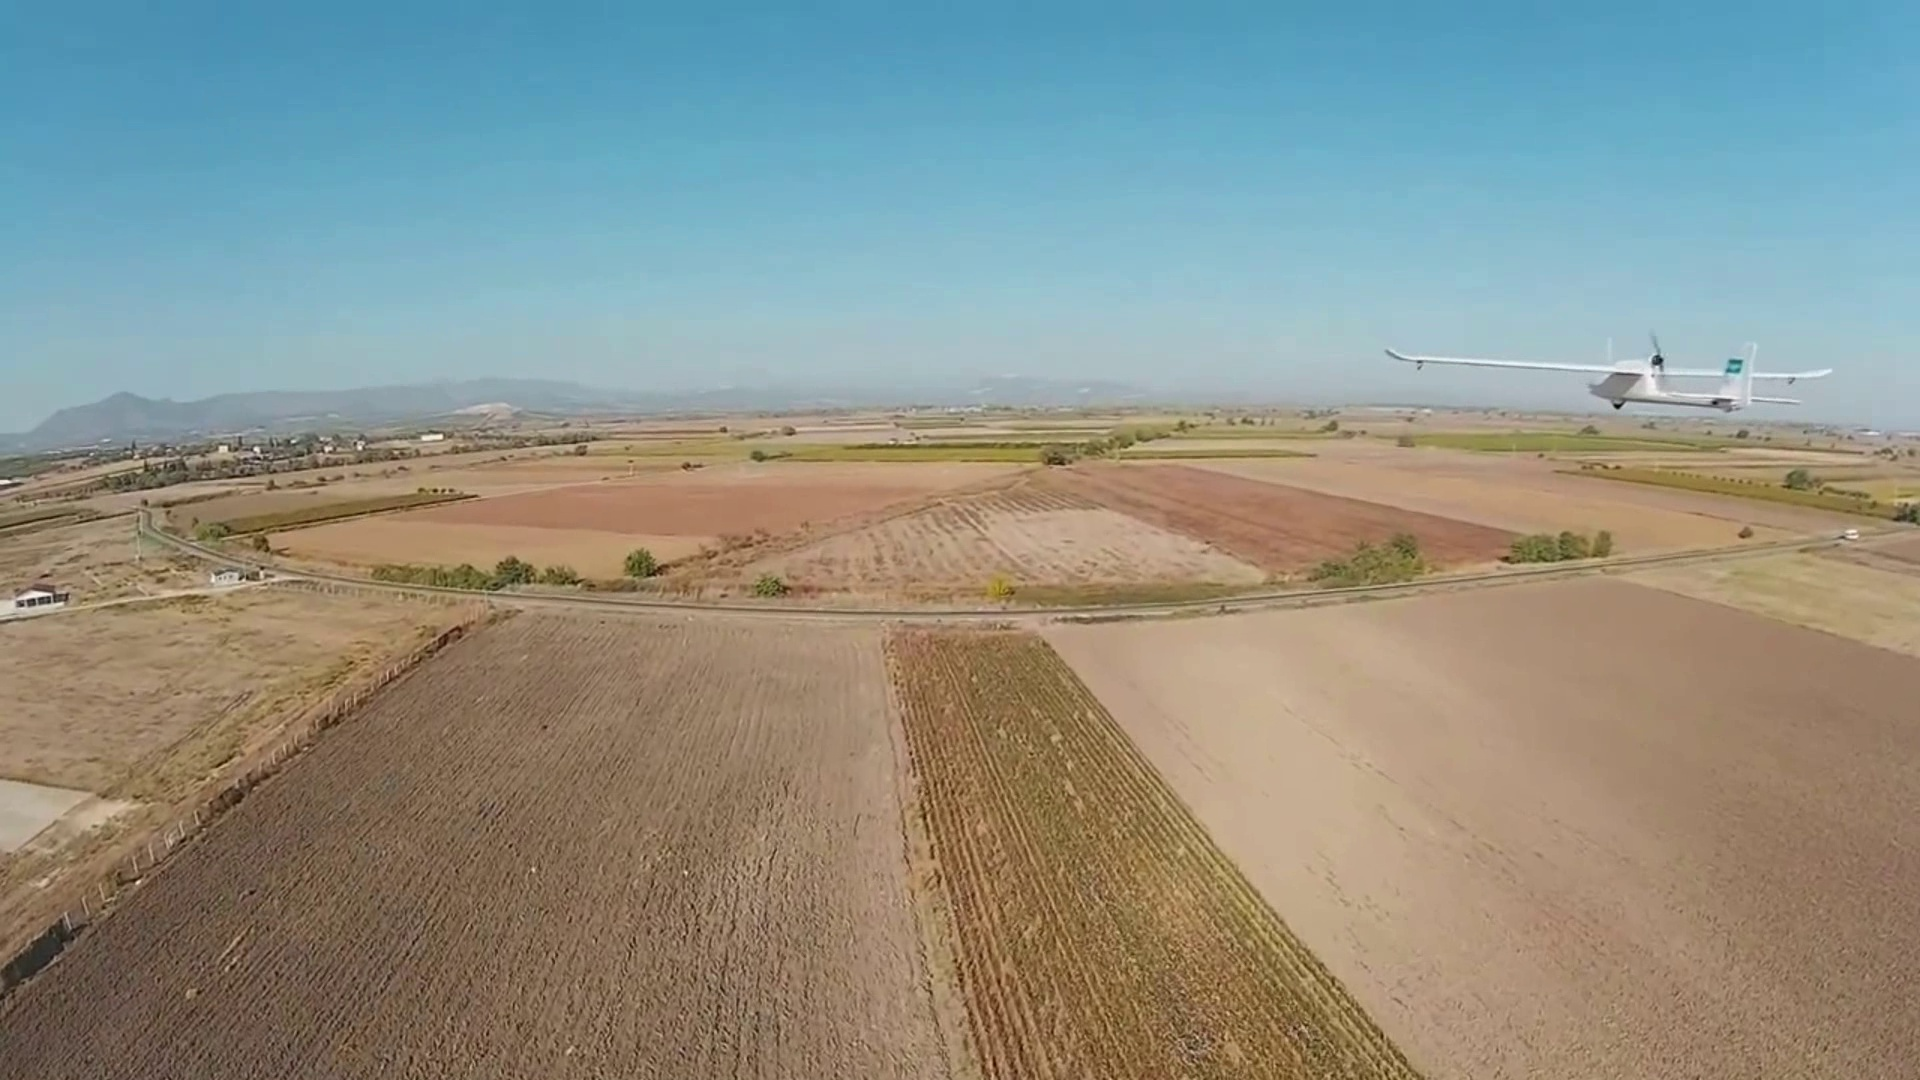airplane: (1381, 335, 1833, 421)
